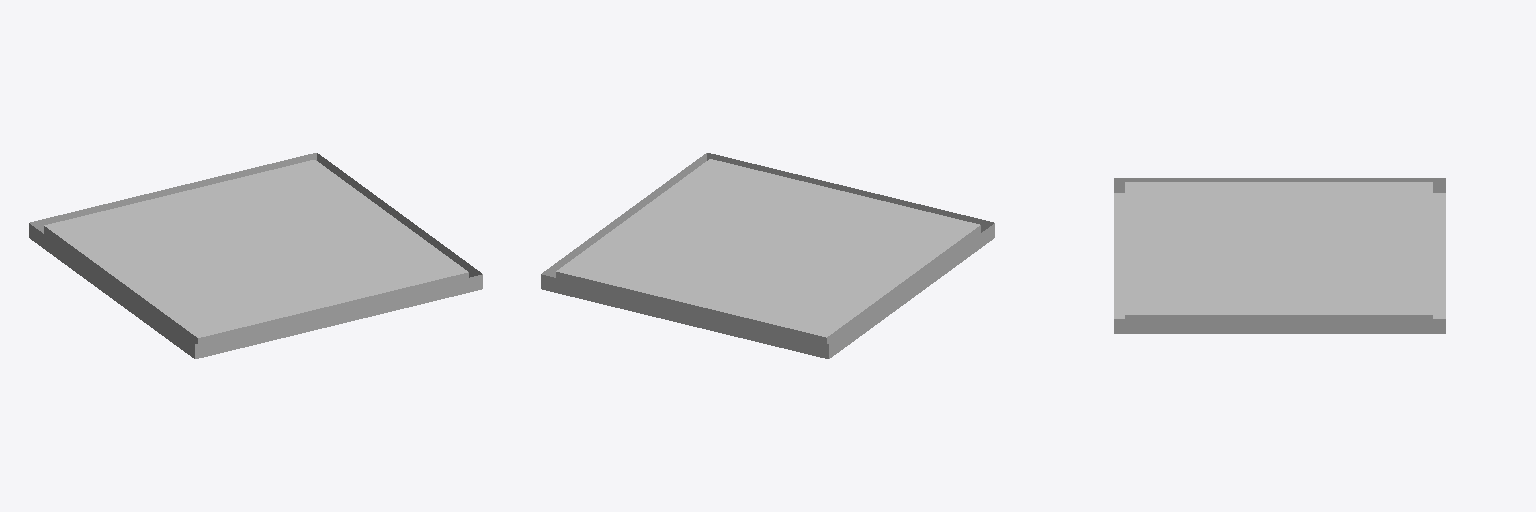
File: greybox_roof_02.obj
3 views of the same model, side by side, from view 1: azimuth 30°, elevation 25°; view 2: azimuth 150°, elevation 25°; view 3: azimuth 270°, elevation 25° (orthographic).
Visible parts, largest first — view 1: pPlane20; view 2: pPlane20; view 3: pPlane20.
Part boxes in pixels (x1,y1,x2,y2): pPlane20: (29,153,482,358); pPlane20: (541,153,994,358); pPlane20: (1114,178,1445,333).
Bounding box in the file's own units: 4 × 0.1987 × 4.